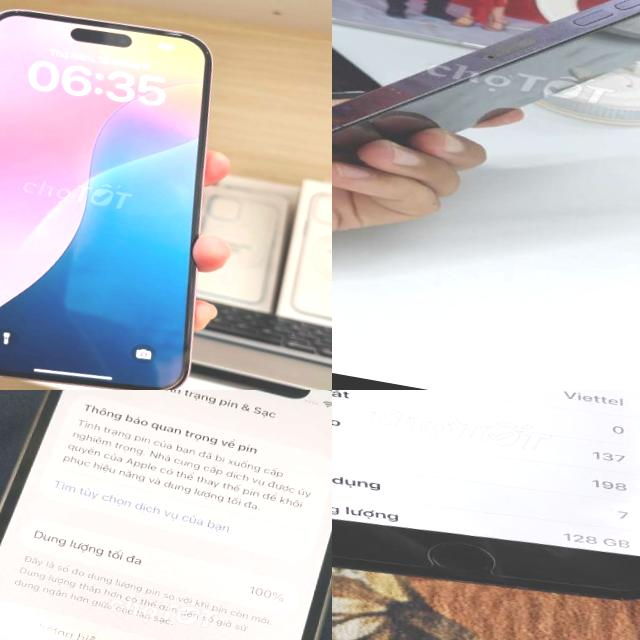gen_12_13: (0, 390, 332, 640)
gen_14: (332, 0, 640, 238)
gen_15: (0, 0, 268, 390)
gen_7_8: (332, 390, 640, 597)
